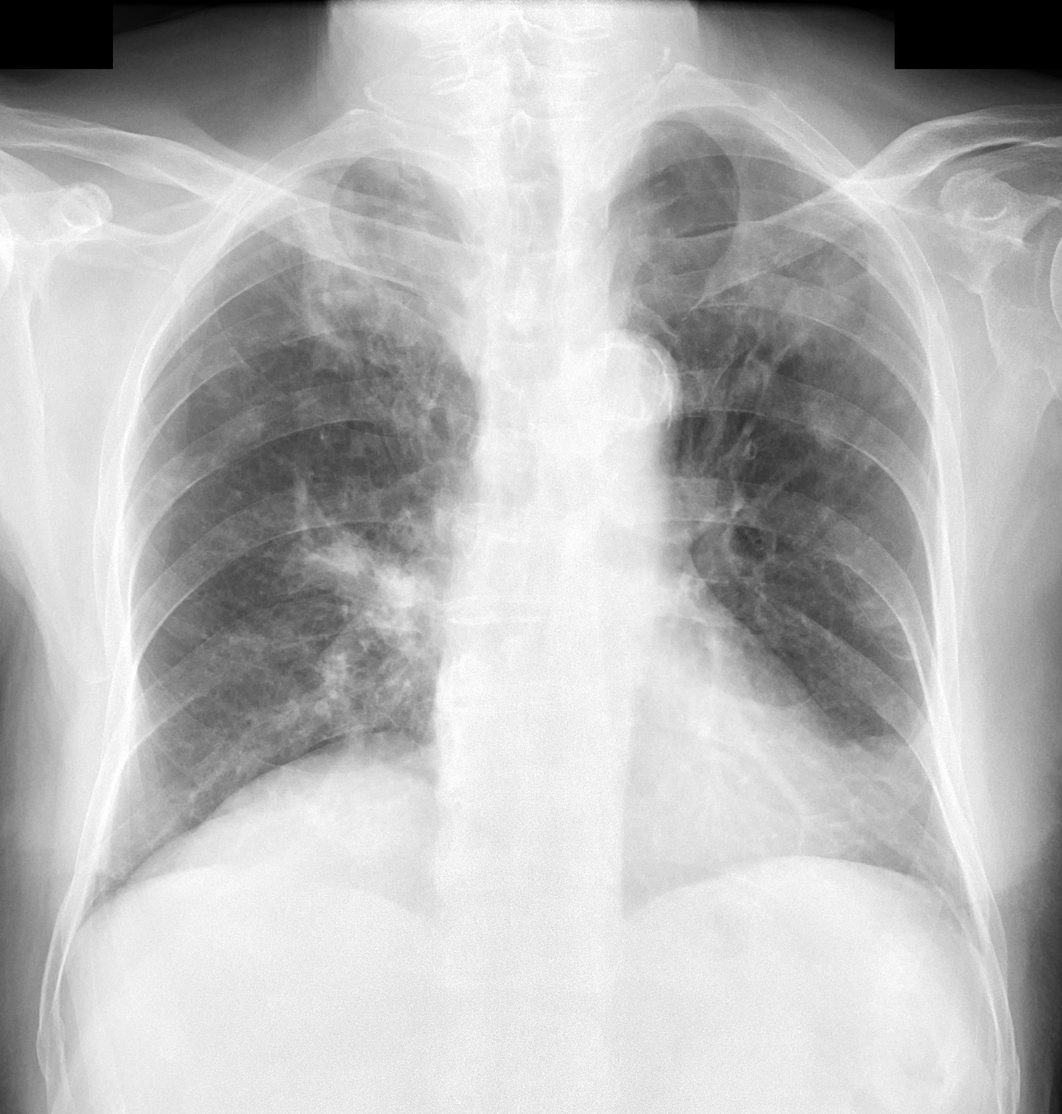Pulmonary fibrosis: (686, 124, 892, 358), (286, 168, 490, 338), (832, 719, 980, 895)
